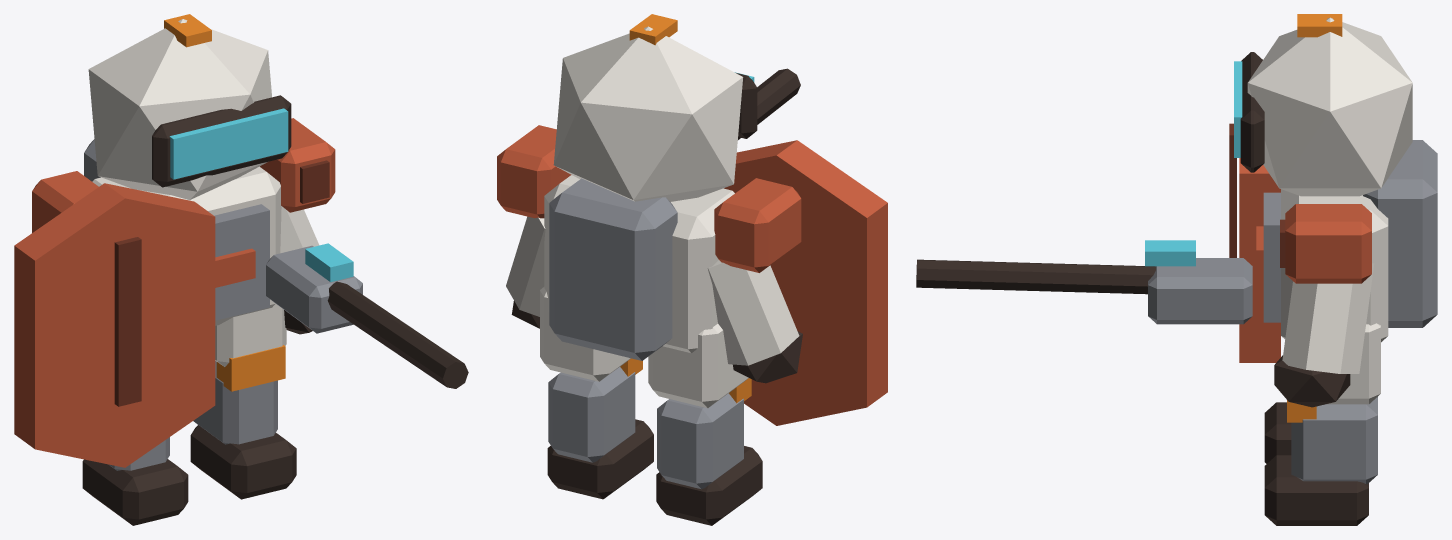
Rendered from u_swordsman.glb.
The picture shows the model from 3 angles, left to right: view 1: azimuth 30°, elevation 25°; view 2: azimuth 150°, elevation 25°; view 3: azimuth 270°, elevation 25°; orthographic projection.
Visible parts, largest first — view 1: u_swordsman; view 2: u_swordsman; view 3: u_swordsman.
Boxes of the visible parts, x1,y1,x2,y2 form: u_swordsman: (14,14,468,525); u_swordsman: (497,14,887,525); u_swordsman: (916,14,1437,525).
Size of the model in its own units: 0.2374 by 0.32 by 0.3212.
